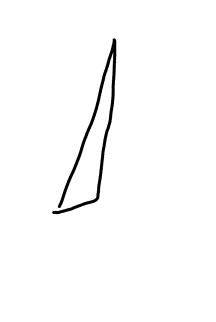Triangle: (51, 35, 120, 215)
